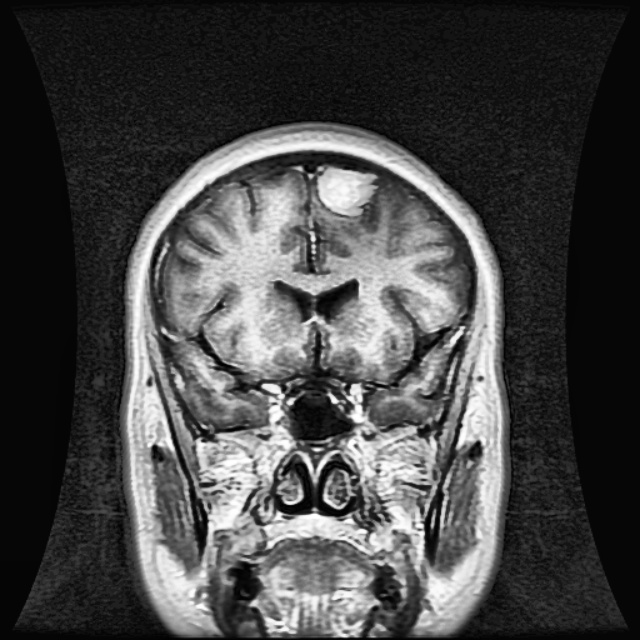Glioma: (318, 168, 377, 213)
